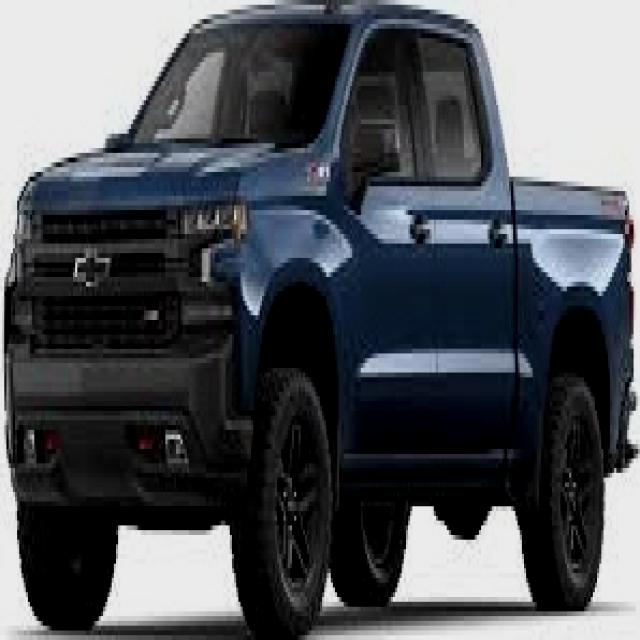blue: (8, 4, 640, 639)
